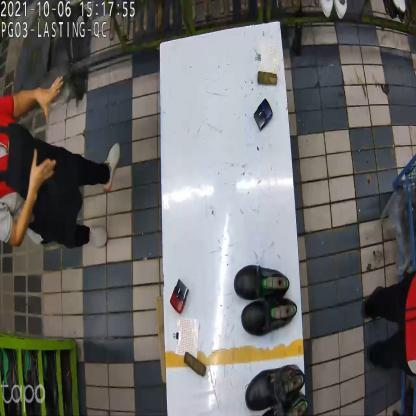shoes: (233, 264, 297, 335), (242, 360, 307, 415)
stamp: (169, 277, 193, 308), (256, 94, 274, 129)
